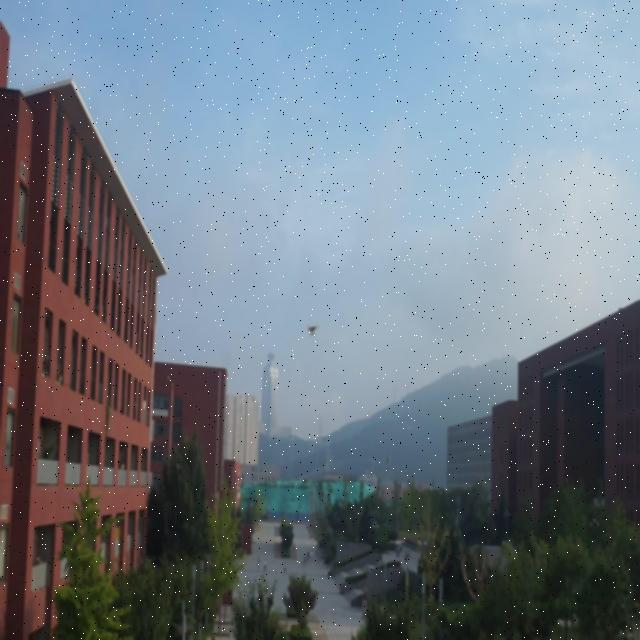UAV: (305, 324, 320, 336)
